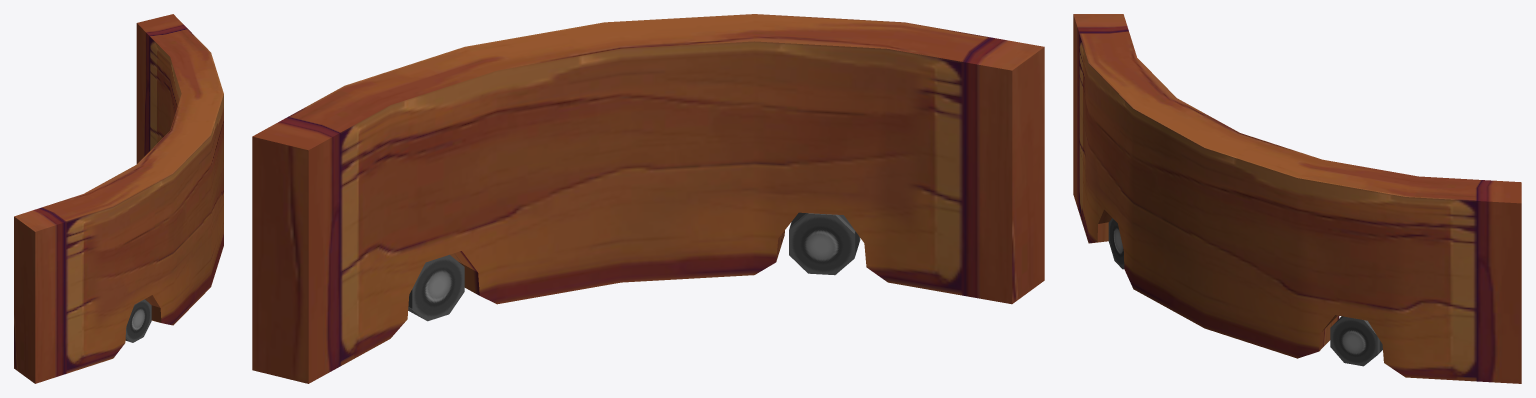
The model's file is dynamic_arched_fence_wood_02.fbx.
3 views of the same model, side by side, from view 1: azimuth 30°, elevation 25°; view 2: azimuth 150°, elevation 25°; view 3: azimuth 270°, elevation 25° (orthographic). The views are drawn at different scales.
Visible parts, largest first — view 1: dynamic_arched_fence_wood_02; view 2: dynamic_arched_fence_wood_02; view 3: dynamic_arched_fence_wood_02.
Part boxes in pixels (box(x1,y1,x2,y2)): dynamic_arched_fence_wood_02: box(14, 14, 223, 383); dynamic_arched_fence_wood_02: box(252, 14, 1044, 383); dynamic_arched_fence_wood_02: box(1073, 14, 1521, 383).
Bounding box in the file's own units: 90 × 40 × 90.
